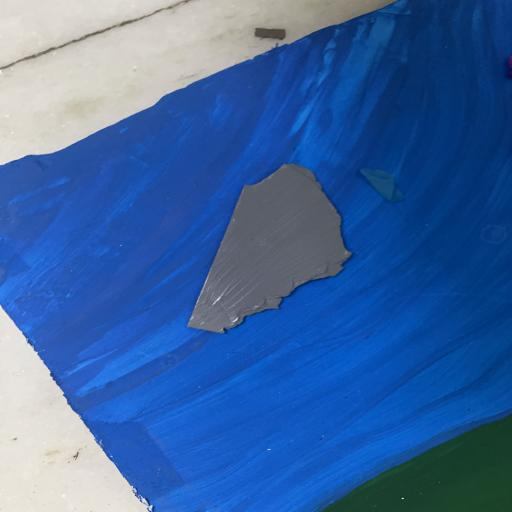encroachment: (184, 161, 350, 333)
